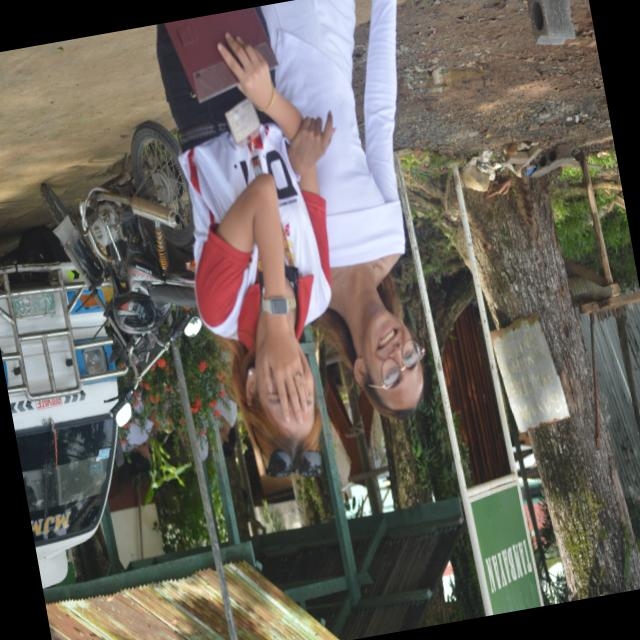person: (156, 25, 330, 476), (263, 0, 422, 417), (125, 409, 155, 471), (215, 385, 236, 456)
